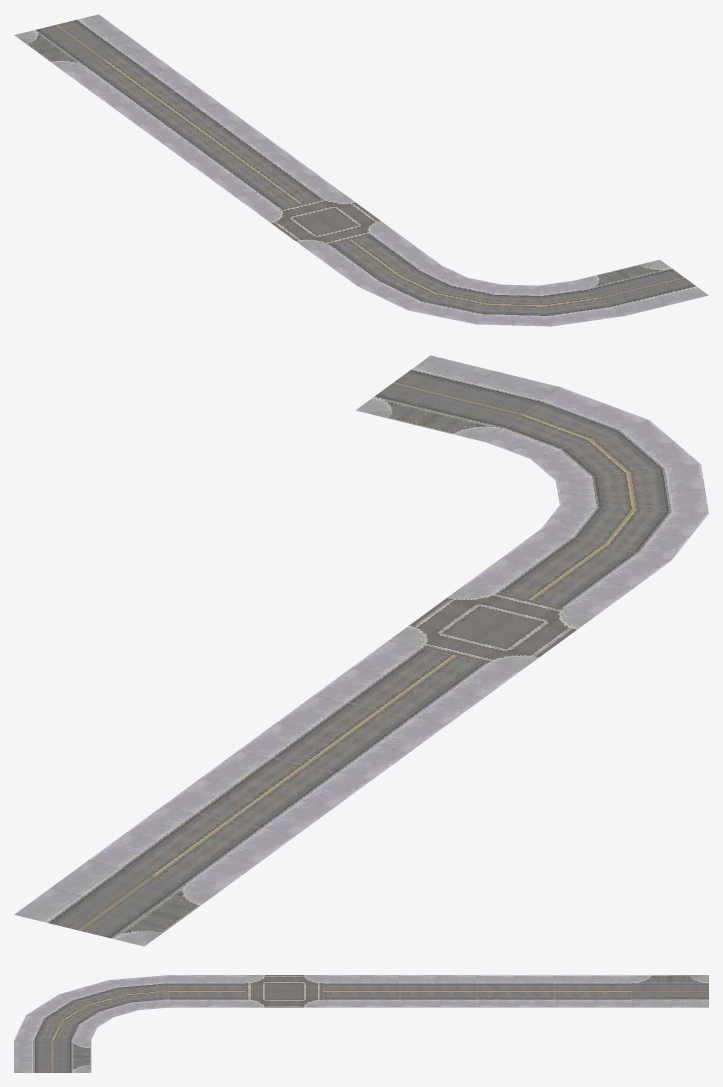
Rendered from lodaseroad099.obj.
3 renders of one model, top to bottom at view 1: azimuth 30°, elevation 25°; view 2: azimuth 150°, elevation 25°; view 3: azimuth 270°, elevation 25°, orthographic. The views are drawn at different scales.
Parts seen in each view (by area): view 1: lodasEroad099; view 2: lodasEroad099; view 3: lodasEroad099.
Boxes of the visible parts, x1,y1,x2,y2 form: lodasEroad099: [14, 14, 708, 326]; lodasEroad099: [14, 355, 708, 946]; lodasEroad099: [14, 975, 708, 1072].
Size of the model in its own units: 60 by 0.0627 by 180.
Materials: 3 (3 with a texture image).
